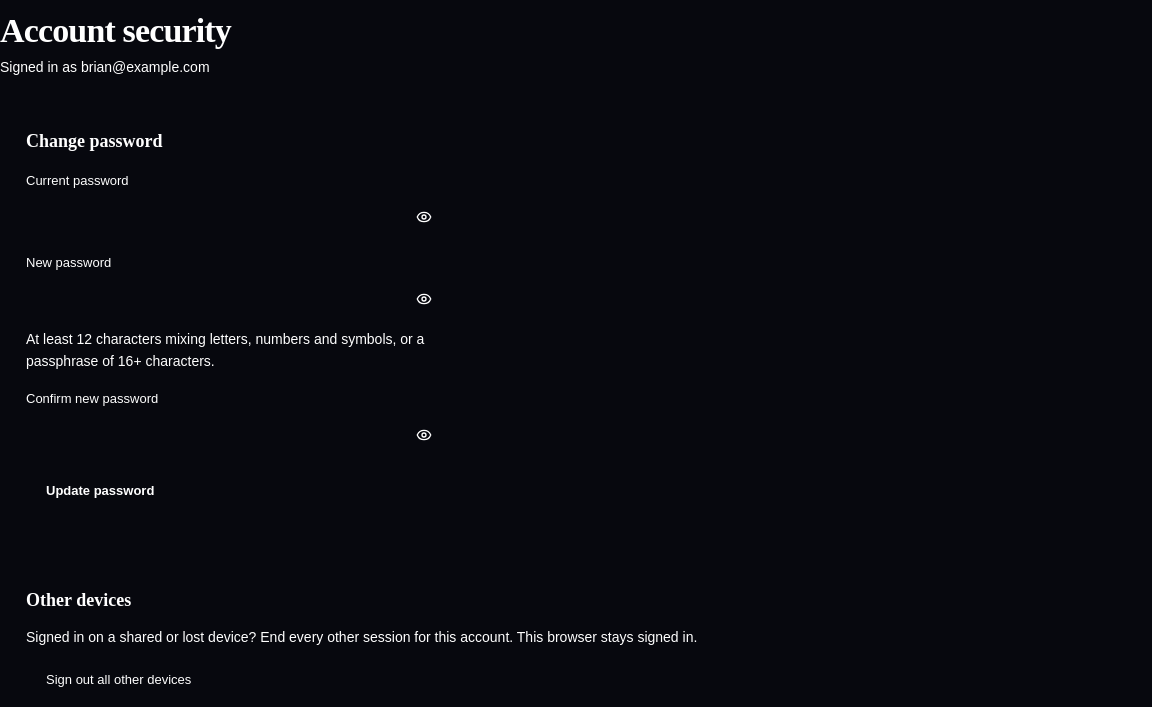
it: sign out other devices › asks for confirmation, then revokes every other session
Click the button "Sign out all other devices" at (119, 680), box top-left (26, 660), bottom-right (211, 700)
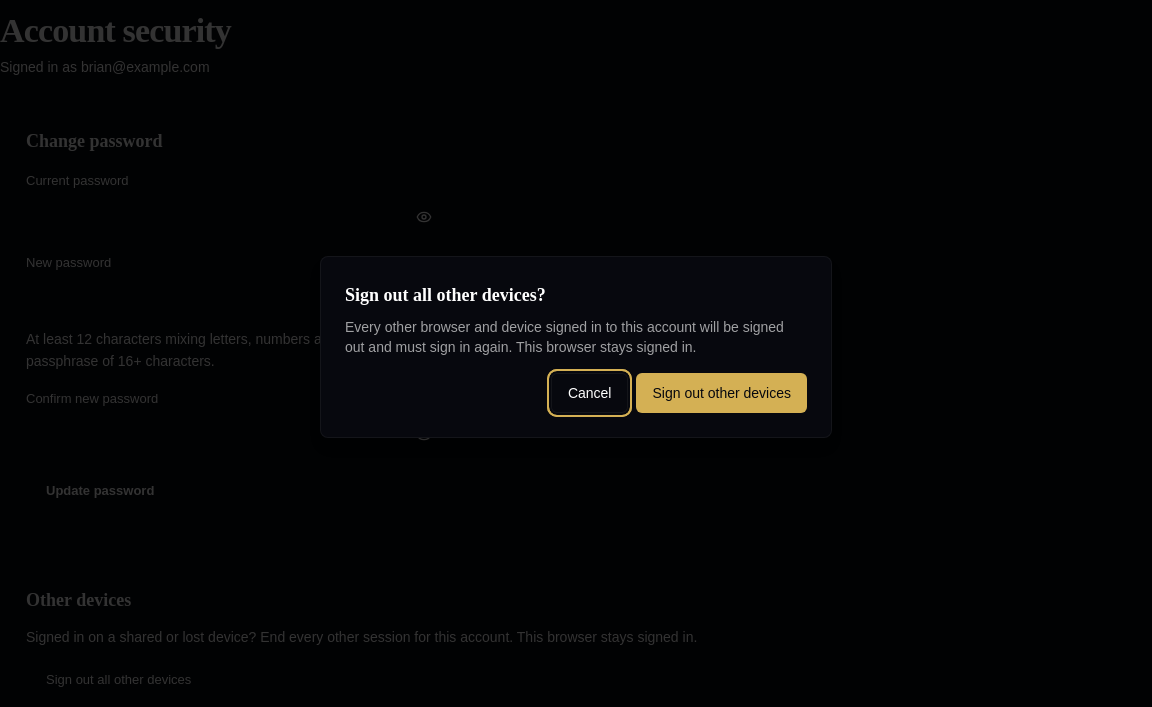
Click the button "Sign out other devices" at (722, 393), box top-left (636, 373), bottom-right (807, 413)
(page scrolled)
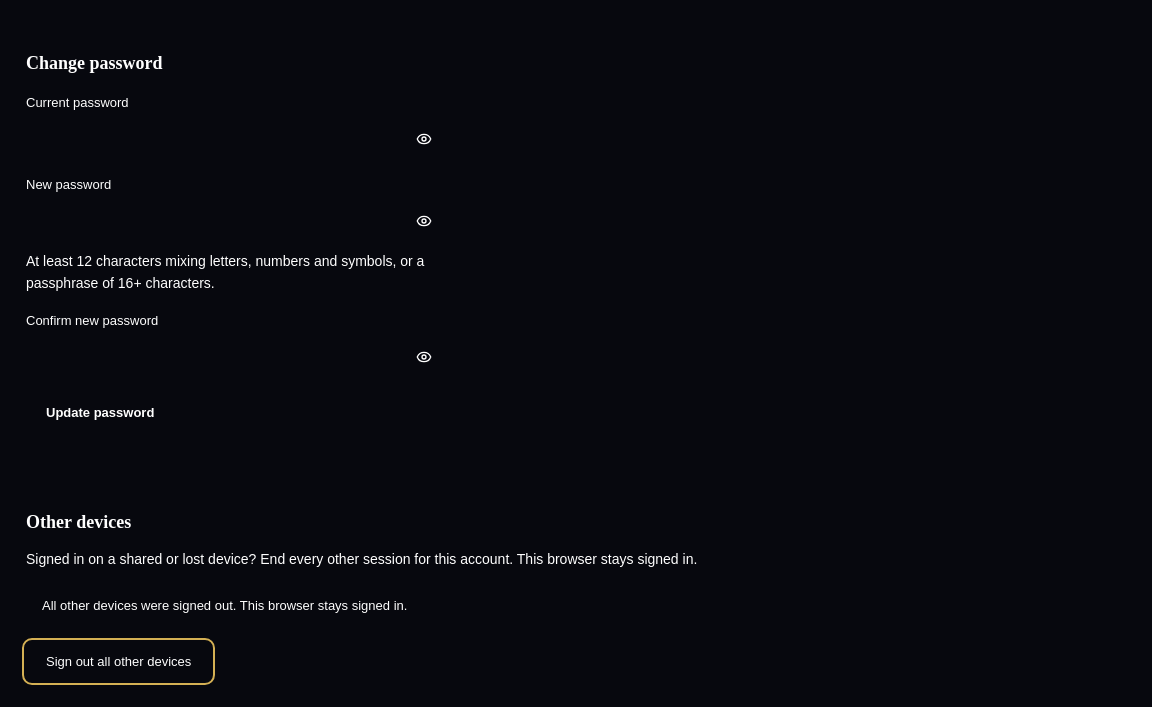
Check: the text "All other devices were signed out. This browser stays signed in." is shown, box top-left (42, 598), bottom-right (407, 613)
